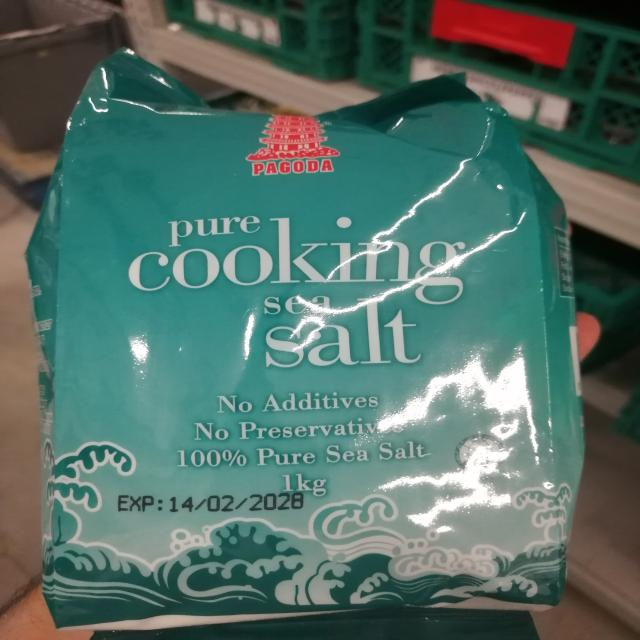object_name: (62, 98, 553, 599)
